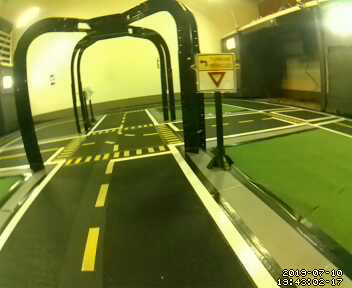Turn Yield: (195, 52, 239, 92)
